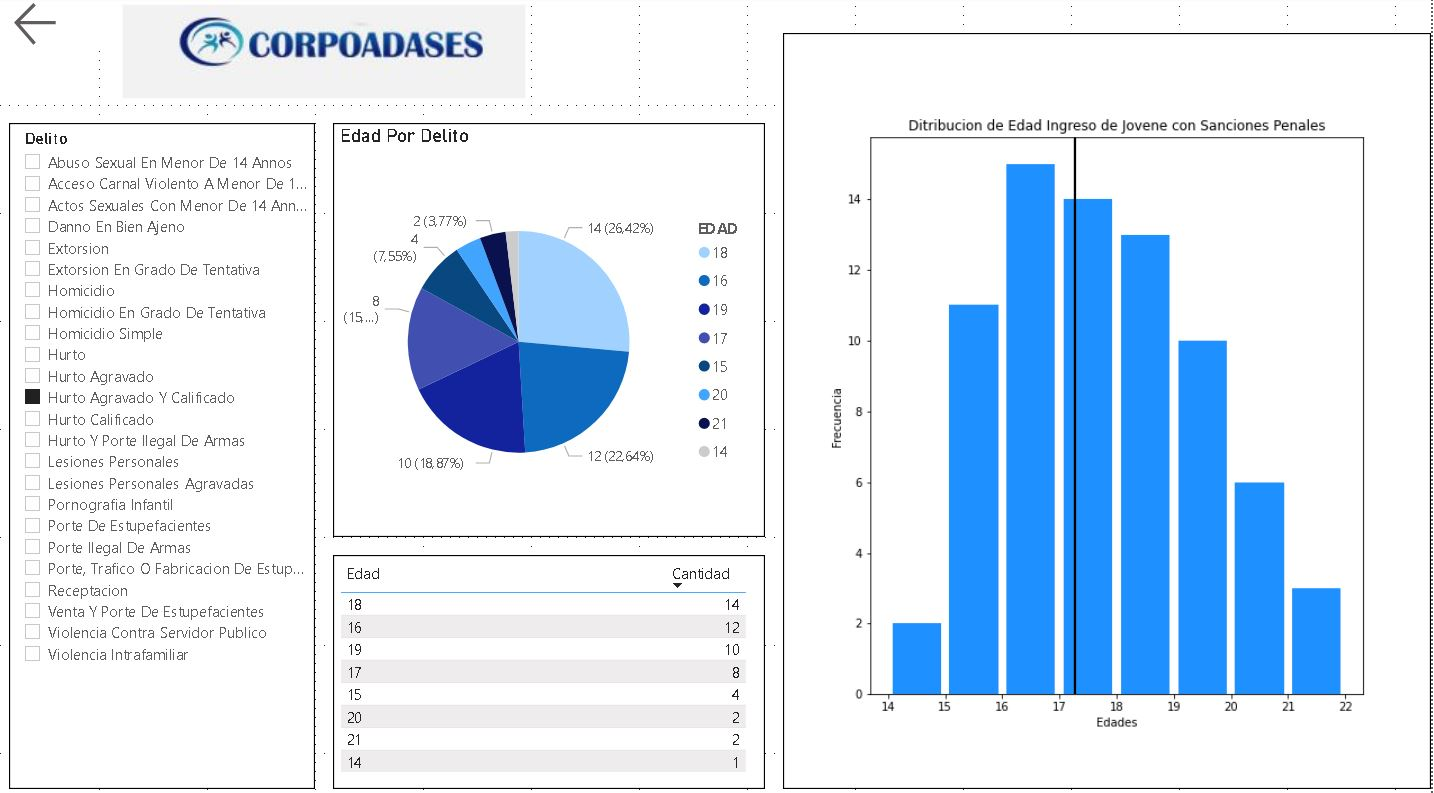

Layout of this report page (visuals, bound fields, positions):
{"tool":"powerbi","page":{"name":"Detalle_Delito","canvas":[1280,720],"ordinal":1},"visuals":[{"type":"image","box":[112,0,368,96],"z":0},{"type":"actionButton","box":[16,0,96,48],"z":1000},{"type":"pythonVisual","fields":{"Values":["CSV_Visualizacion1.EDAD"]},"box":[704,32,576,672],"z":2000},{"type":"pieChart","title":"Edad Por Delito","fields":{"Category":["CSV_Visualizacion1.EDAD"],"Y":["Sum(CSV_Visualizacion1.CANTDAD)"]},"box":[304,112,384,368],"z":3000},{"type":"slicer","fields":{"Values":["CSV_Visualizacion1.DELITO"]},"box":[16,112,272,592],"z":5000},{"type":"tableEx","fields":{"Values":["CSV_Visualizacion1.EDAD","CSV_Visualizacion1.CANTDAD"]},"box":[304,496,384,208],"z":6000}]}

Visuals, with their boxes in screenshot pixels (x1, y1, x2, y2), scaled from the page's 1280x720 canvas onto the 1434x793 screenshot:
image: 125:0:538:106
actionButton: 18:0:125:53
pythonVisual - CSV_Visualizacion1.EDAD: 789:35:1433:775
"Edad Por Delito" pieChart: 341:123:771:529
slicer - CSV_Visualizacion1.DELITO: 18:123:323:775
tableEx - CSV_Visualizacion1.EDAD x CSV_Visualizacion1.CANTDAD: 341:546:771:775
